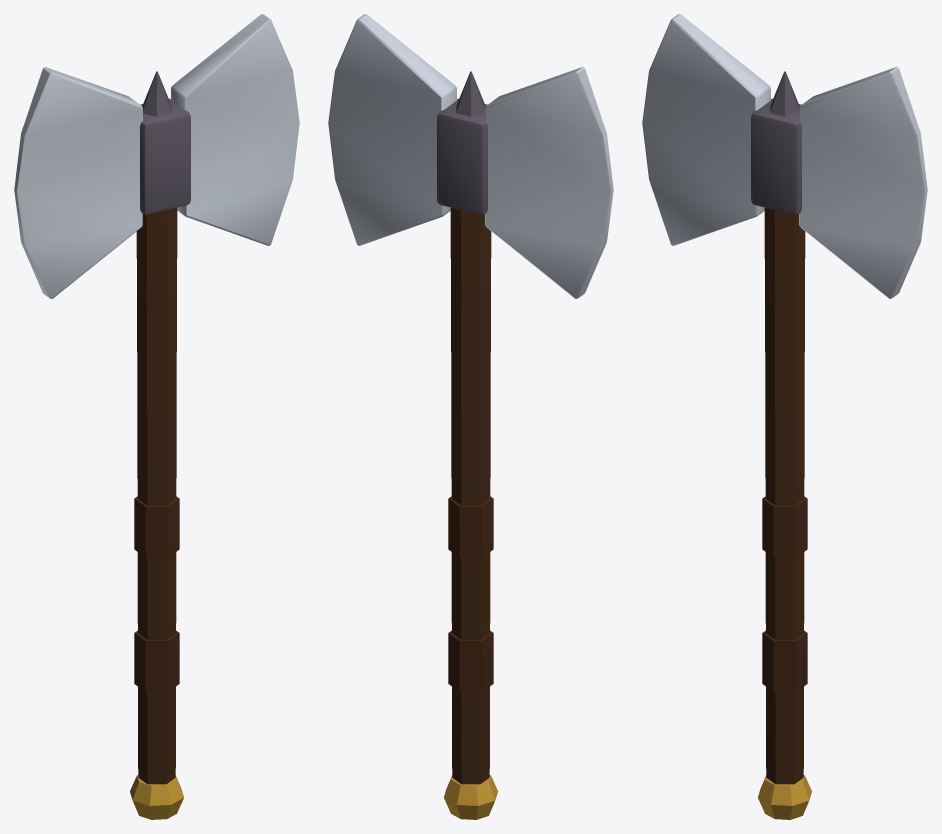
The model's file is Weapon_BerserkerAxe.fbx.
3 views of the same model, side by side, from view 1: azimuth 30°, elevation 25°; view 2: azimuth 150°, elevation 25°; view 3: azimuth 330°, elevation 25° (orthographic).
Parts seen in each view (by area): view 1: BerserkerAxe; view 2: BerserkerAxe; view 3: BerserkerAxe.
Part boxes in pixels (x1=…): BerserkerAxe: x1=14, y1=14, x2=299, y2=819; BerserkerAxe: x1=328, y1=14, x2=613, y2=819; BerserkerAxe: x1=642, y1=14, x2=927, y2=819.
Bounding box in the file's own units: 0.4698 × 1.22 × 0.081.
